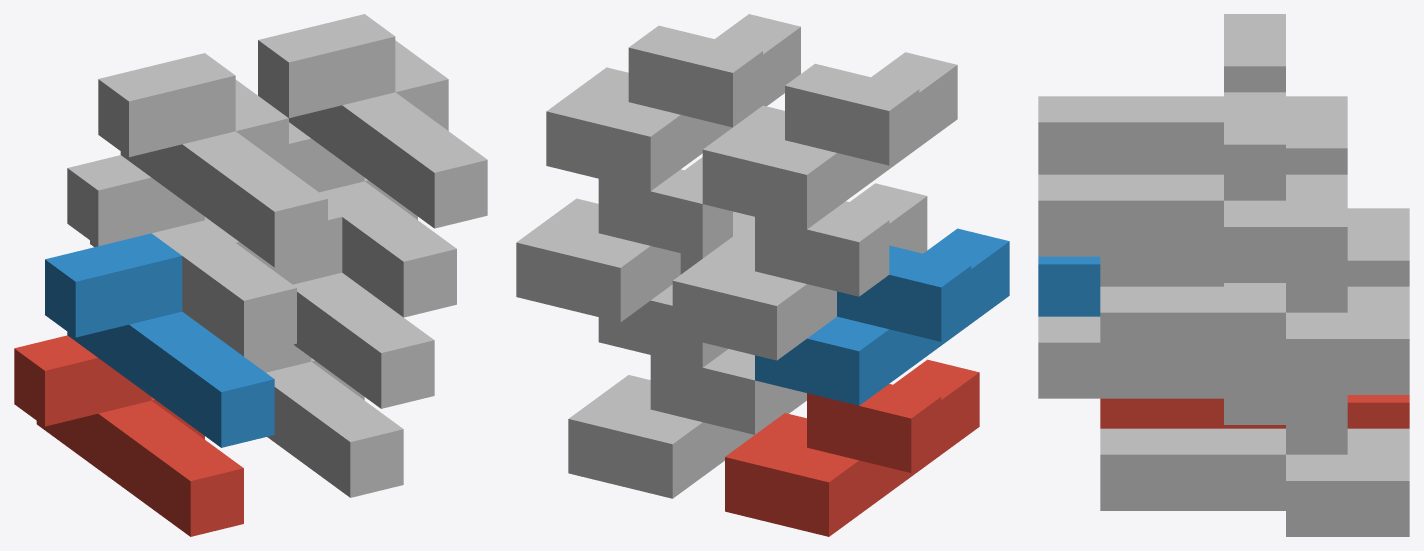
File: tiling.obj
3 renders of one model, left to right at view 1: azimuth 30°, elevation 25°; view 2: azimuth 150°, elevation 25°; view 3: azimuth 270°, elevation 25°, orthographic. The views are drawn at different scales.
Parts seen in each view (by area): view 1: copy_1_domain_4, copy_1_domain_8, copy_1_domain_2, copy_1_domain_1, copy_1_domain_3, copy_1_domain_6, copy_1_domain_7, copy_1_domain_5; view 2: copy_1_domain_4, copy_1_domain_8, copy_1_domain_1, copy_1_domain_3, copy_1_domain_2, copy_1_domain_5, copy_1_domain_7, copy_1_domain_6; view 3: copy_1_domain_8, copy_1_domain_5, copy_1_domain_7, copy_1_domain_4, copy_1_domain_6, copy_1_domain_3, copy_1_domain_1, copy_1_domain_2.
Boxes of the visible parts, x1,y1,x2,y2 form: copy_1_domain_4: [98, 53, 327, 267]; copy_1_domain_8: [258, 14, 487, 228]; copy_1_domain_2: [45, 233, 274, 447]; copy_1_domain_1: [14, 335, 243, 536]; copy_1_domain_3: [67, 155, 296, 356]; copy_1_domain_6: [205, 206, 434, 408]; copy_1_domain_7: [289, 122, 456, 317]; copy_1_domain_5: [244, 344, 403, 497]; copy_1_domain_4: [702, 52, 957, 229]; copy_1_domain_8: [546, 14, 800, 191]; copy_1_domain_1: [725, 359, 979, 536]; copy_1_domain_3: [672, 183, 927, 360]; copy_1_domain_2: [755, 228, 1009, 405]; copy_1_domain_5: [568, 349, 806, 498]; copy_1_domain_7: [516, 157, 732, 322]; copy_1_domain_6: [598, 201, 848, 367]; copy_1_domain_8: [1038, 92, 1347, 282]; copy_1_domain_5: [1100, 425, 1409, 536]; copy_1_domain_7: [1100, 283, 1409, 394]; copy_1_domain_4: [1038, 14, 1347, 174]; copy_1_domain_6: [1038, 283, 1347, 424]; copy_1_domain_3: [1100, 208, 1409, 286]; copy_1_domain_1: [1100, 395, 1409, 428]; copy_1_domain_2: [1038, 256, 1100, 316].
Bounding box in the file's own units: 7 × 7 × 6.
